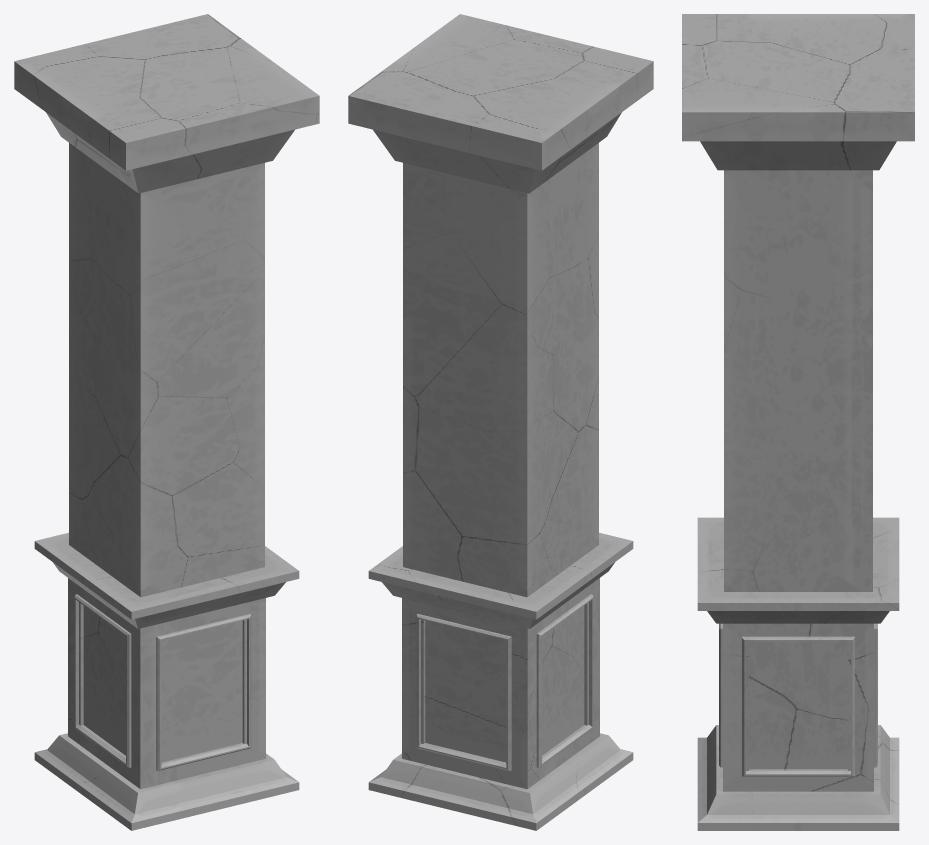
Rendered from Pillar_F1 (1).fbx.
3 renders of one model, left to right at view 1: azimuth 30°, elevation 25°; view 2: azimuth 150°, elevation 25°; view 3: azimuth 270°, elevation 25°, orthographic. The views are drawn at different scales.
Parts seen in each view (by area): view 1: Pillar_F1 (1).001; view 2: Pillar_F1 (1).001; view 3: Pillar_F1 (1).001.
Boxes of the visible parts, x1,y1,x2,y2 form: Pillar_F1 (1).001: (14, 14, 319, 830); Pillar_F1 (1).001: (348, 14, 653, 830); Pillar_F1 (1).001: (682, 14, 914, 830).
Bounding box in the file's own units: 1.09 × 1.09 × 3.76.
1 material, 1 textured.
